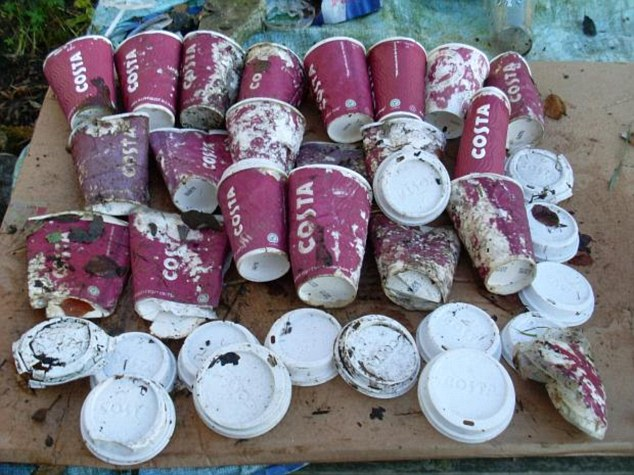cup: (284, 159, 384, 313), (124, 205, 242, 333), (449, 168, 557, 300), (16, 205, 127, 327), (209, 158, 306, 283), (66, 106, 159, 218), (149, 123, 246, 224), (299, 32, 375, 146), (36, 30, 122, 129), (481, 49, 562, 152), (111, 27, 181, 131), (426, 40, 496, 140), (179, 29, 242, 128), (365, 33, 430, 123), (242, 40, 305, 113)
